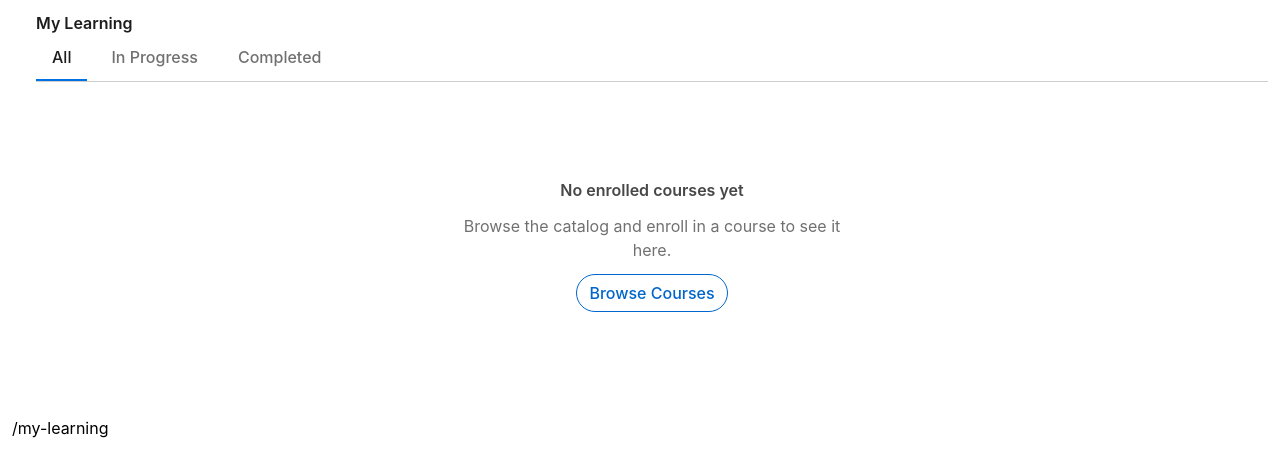
it: MyLearningPage (integration) › shows the empty state for a user with zero enrollments and 'Browse Courses' navigates to /courses
The image size is (1285, 455).
Expected: the heading "No enrolled courses yet" is shown, [560, 178, 744, 202]
Step 1. Click the button "Browse Courses" → (652, 293), box [576, 274, 728, 312]
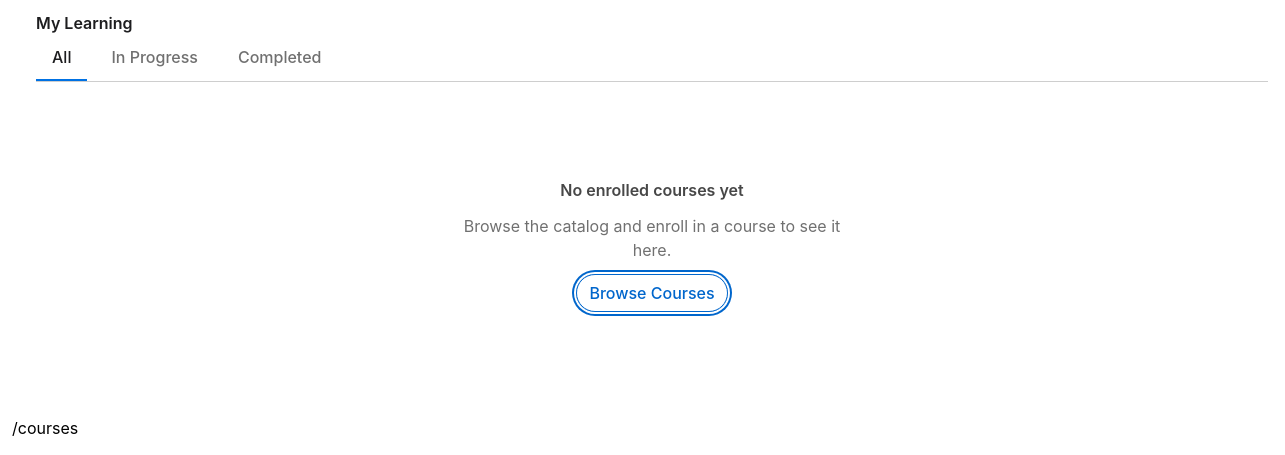
Expected: the text with test id "location" reads "/courses", [12, 418, 78, 438]
